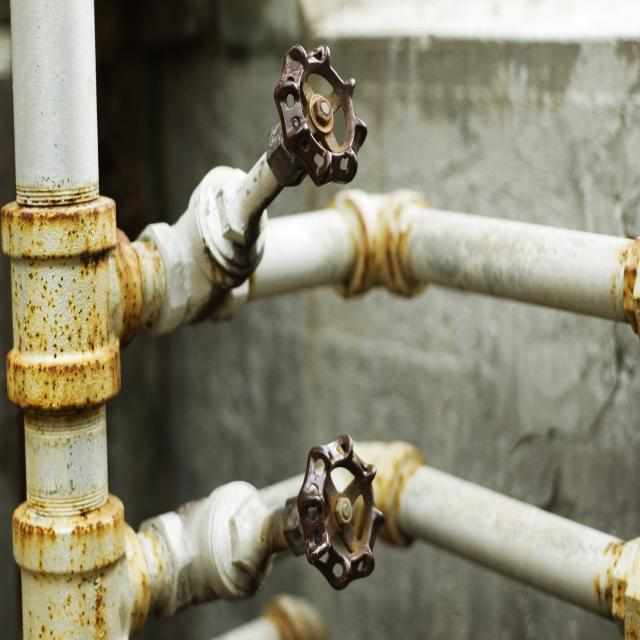Wheel Handle Valve Threaded: (144, 41, 370, 323), (151, 435, 376, 606)
